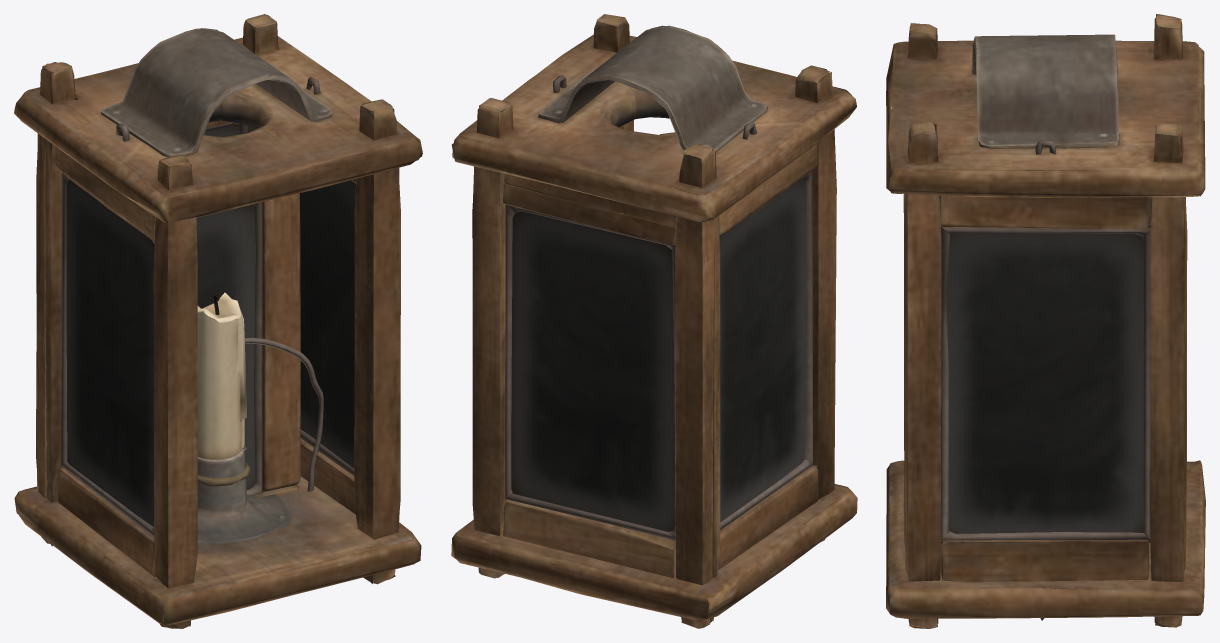
File: lampiao.glb
3 views of the same model, side by side, from view 1: azimuth 30°, elevation 25°; view 2: azimuth 150°, elevation 25°; view 3: azimuth 270°, elevation 25° (orthographic). The views are drawn at different scales.
Visible parts, largest first — view 1: lampiao; view 2: lampiao; view 3: lampiao.
Boxes of the visible parts, box(x1,y1,x2,y2) form: lampiao: box(14, 14, 422, 628); lampiao: box(451, 14, 857, 628); lampiao: box(886, 14, 1205, 628).
Bounding box in the file's own units: 0.2213 × 0.4033 × 0.2208.
Materials: 2 (2 with a texture image).
